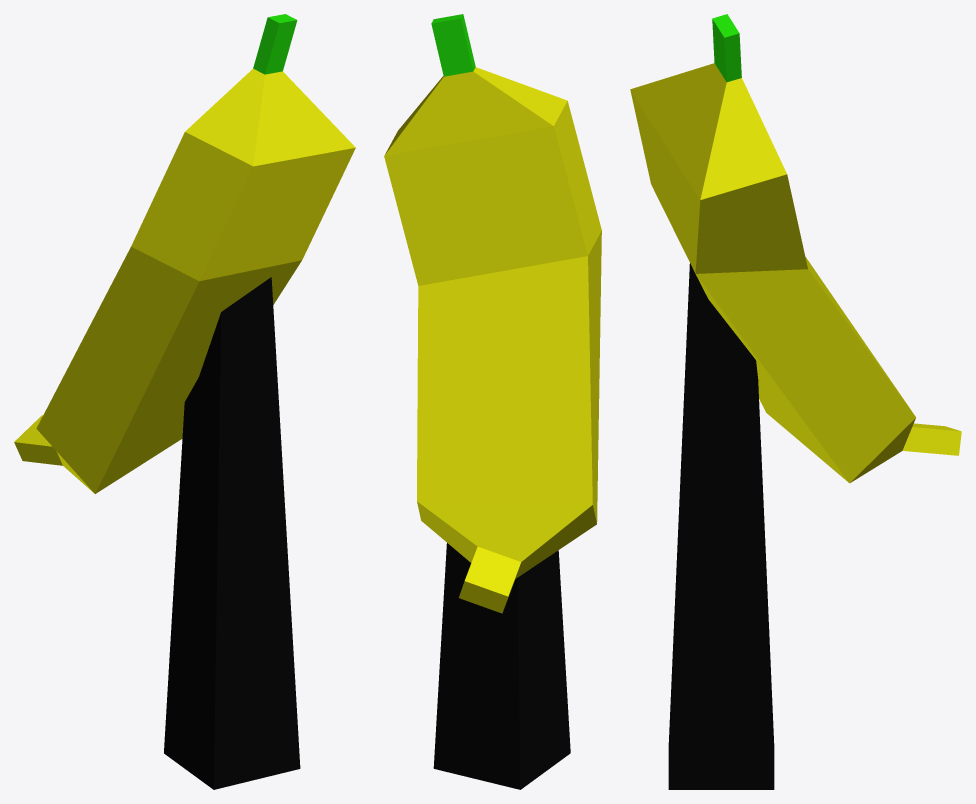
Rendered from бананен.fbx.
3 renders of one model, left to right at view 1: azimuth 30°, elevation 25°; view 2: azimuth 150°, elevation 25°; view 3: azimuth 270°, elevation 25°, orthographic. The views are drawn at different scales.
Visible parts, largest first — view 1: Cube.003, Cube; view 2: Cube.003, Cube; view 3: Cube.003, Cube.
Part boxes in pixels (x1,y1,x2,y2): Cube.003: [14, 14, 355, 493]; Cube: [164, 277, 300, 789]; Cube.003: [384, 14, 601, 613]; Cube: [433, 543, 570, 789]; Cube.003: [630, 14, 961, 483]; Cube: [668, 263, 774, 789].
Bounding box in the file's own units: 108 × 293 × 114.
